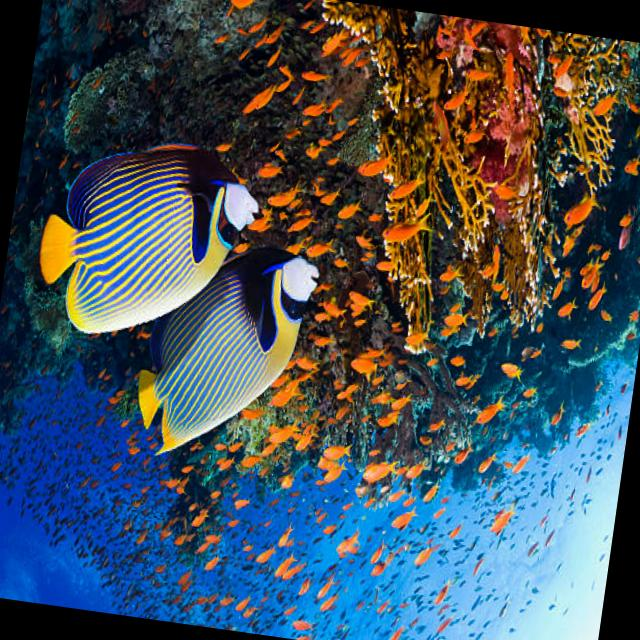AngelFish: (28, 125, 266, 350), (127, 232, 320, 474)
